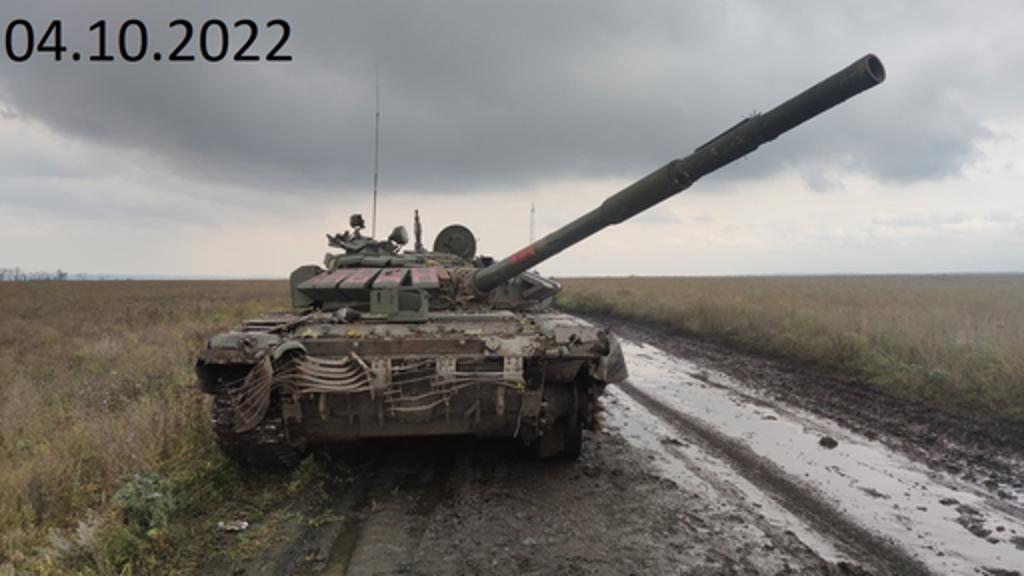TANK: (184, 46, 890, 484)
